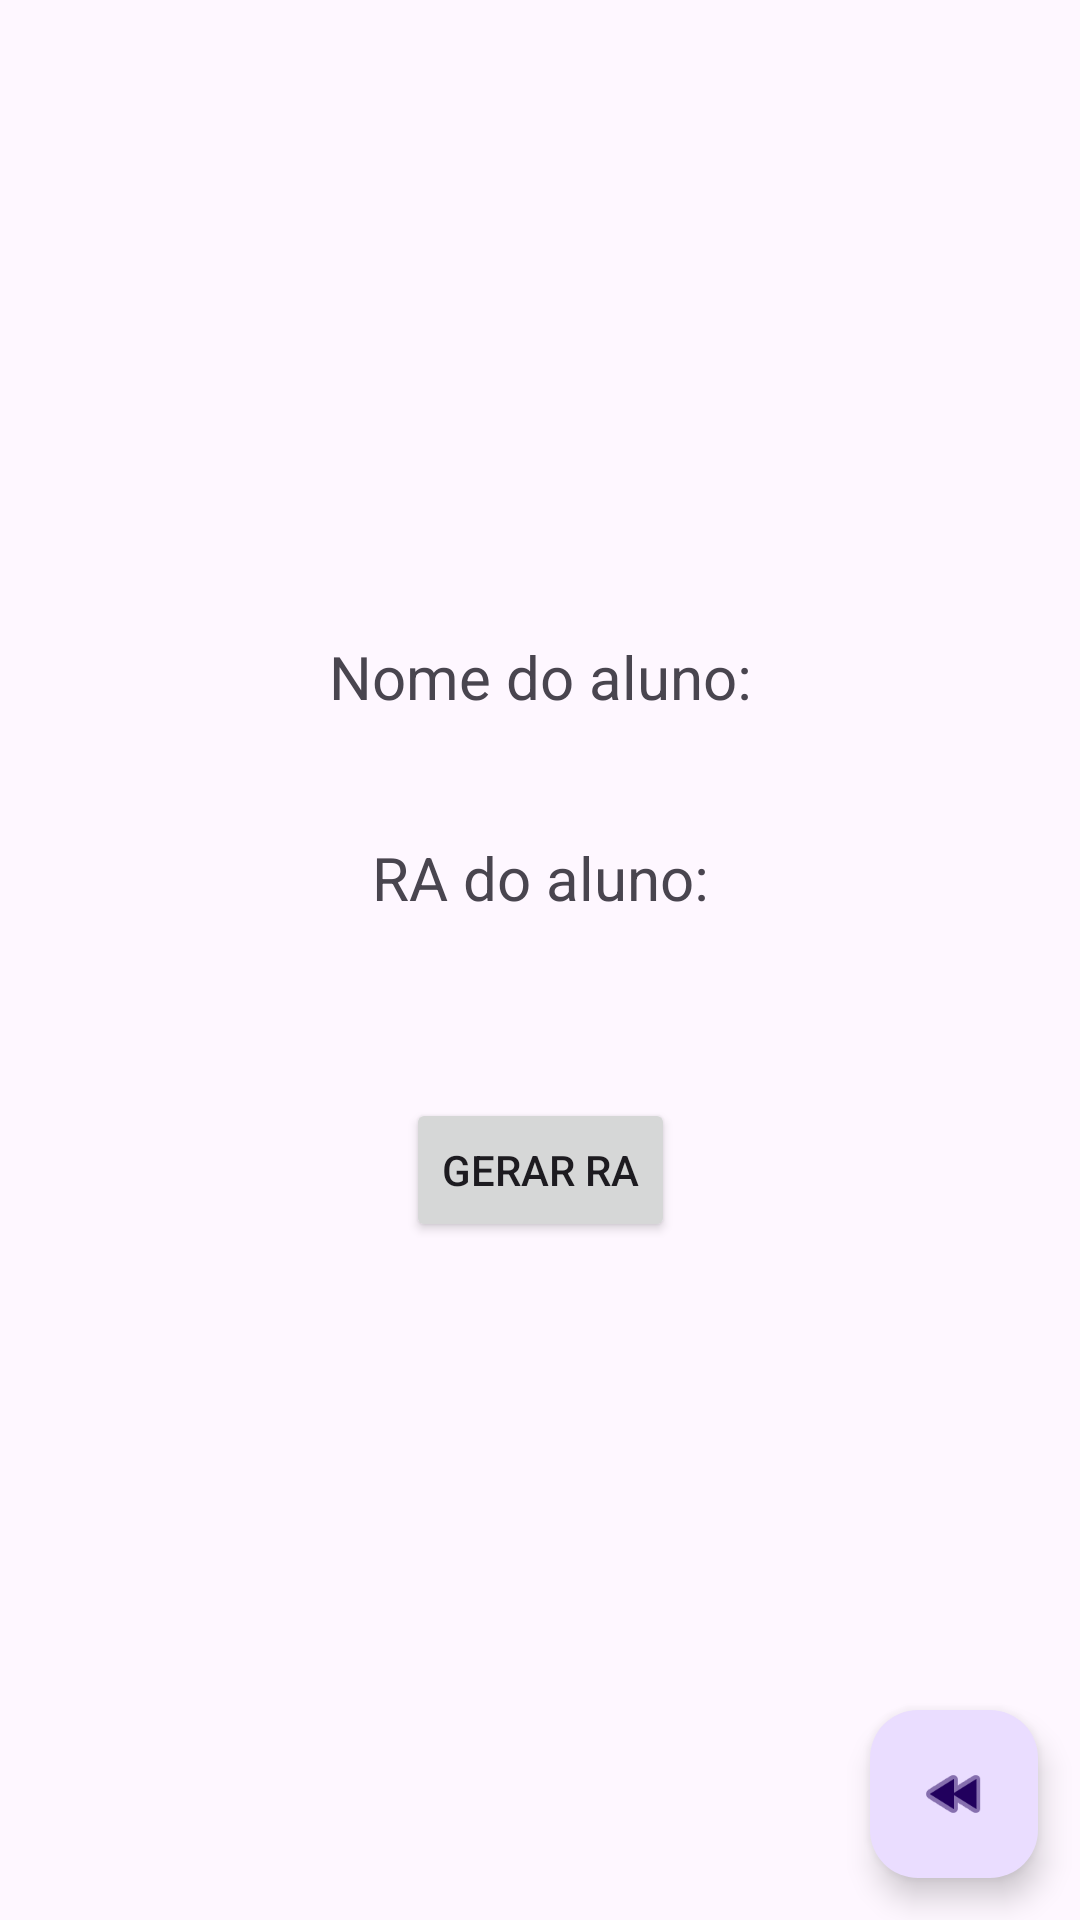

Icon bounding boxes for this 1080*1920 phone screenshot, format [left=x1, top=y1, right=x2, bottom=y2]:
rew: [left=870, top=1710, right=1038, bottom=1878]
